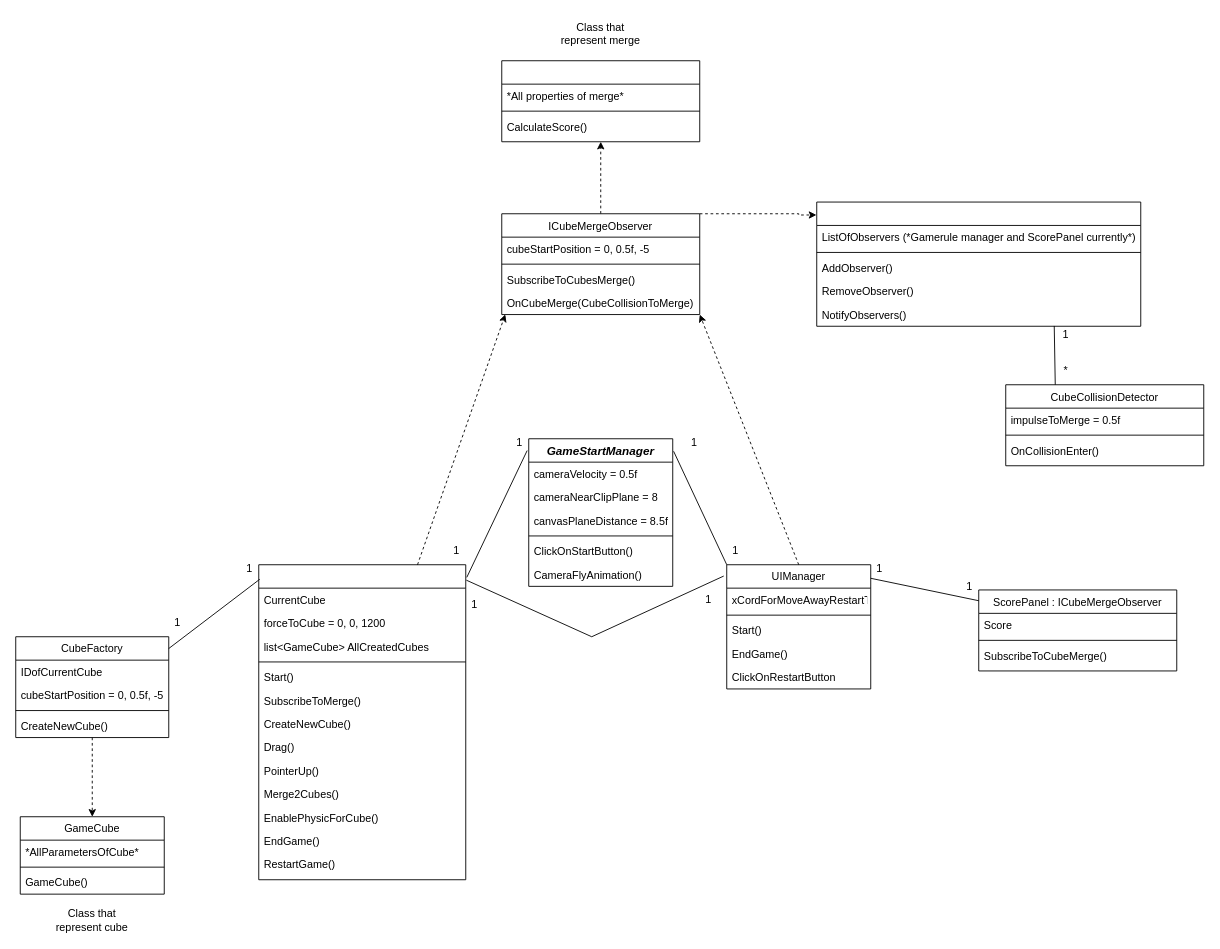
This 1220x949 diagram has some shape labels left out. Here are the shapes that lost their labels. From the top down, the box of each, then its label:
(501, 60, 700, 142): CubeCollisionToMerge
(816, 201, 1141, 326): MergeEventManager
(258, 564, 466, 880): GameruleManager : ICubeMergeObserver
